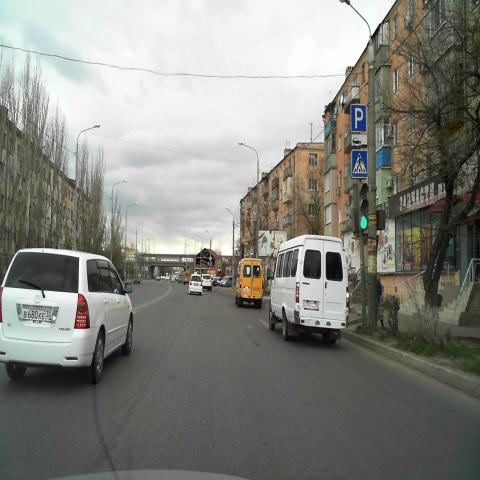8_6_4: (350, 134, 368, 146)
